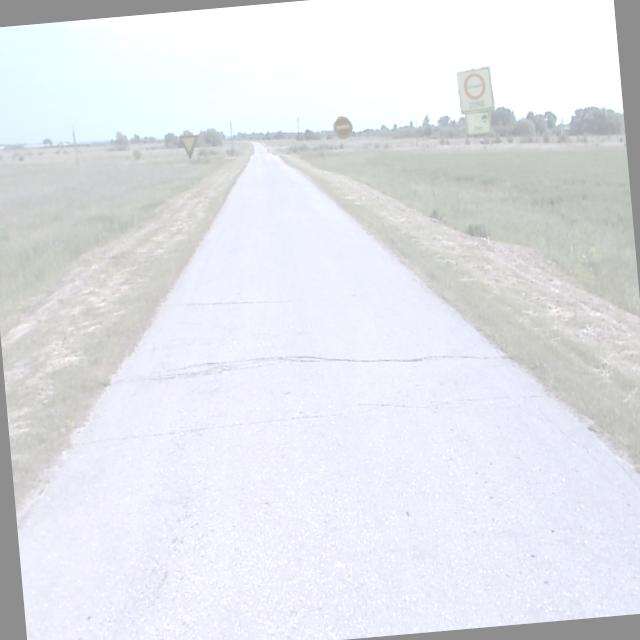road: (17, 154, 640, 640)
